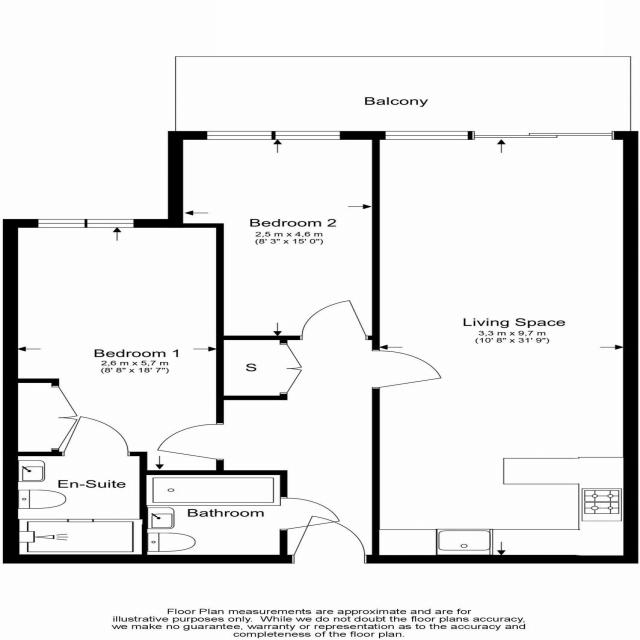DOOR: (298, 297, 369, 340), (151, 421, 225, 461), (59, 415, 131, 456), (372, 349, 443, 390)
ROOM: (371, 129, 638, 565), (2, 217, 227, 476), (166, 130, 381, 340)
WINDOW: (202, 129, 344, 140), (33, 218, 138, 228), (382, 130, 473, 141)
